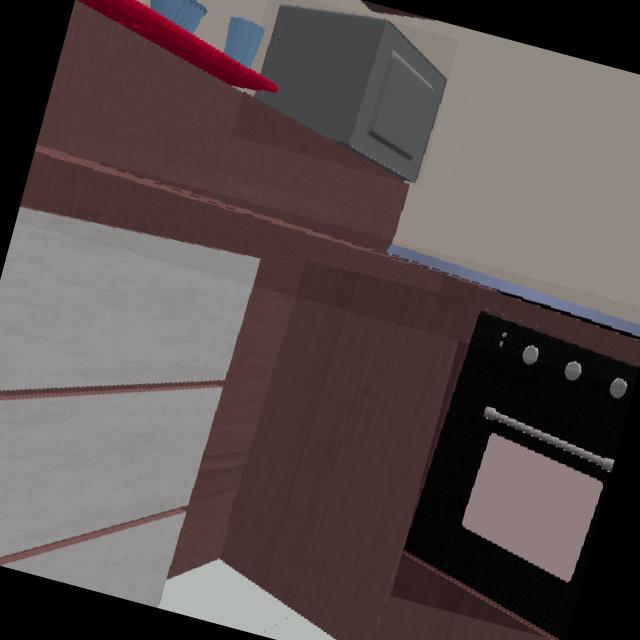countertop: (19, 144, 640, 367)
microwave: (245, 6, 447, 184)
oven: (402, 310, 640, 640)
